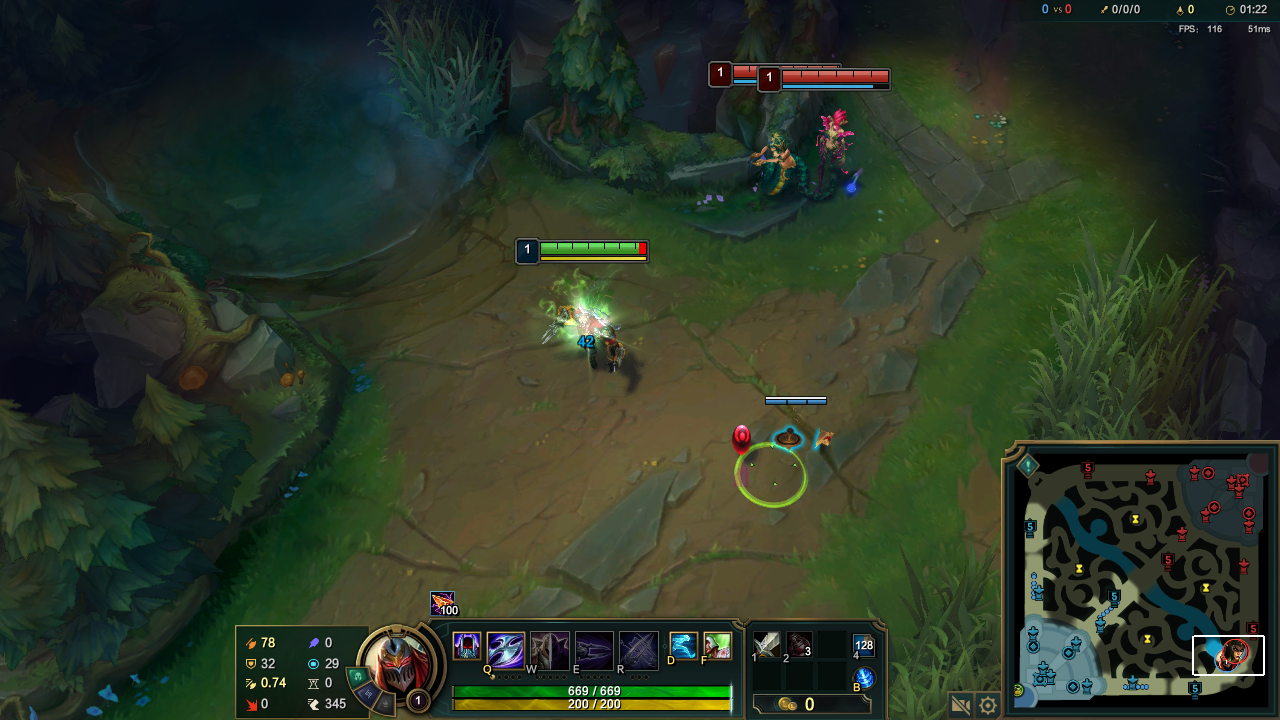DFYX: (781, 69, 886, 81), (730, 63, 758, 76)
Yita: (1186, 673, 1207, 702)
